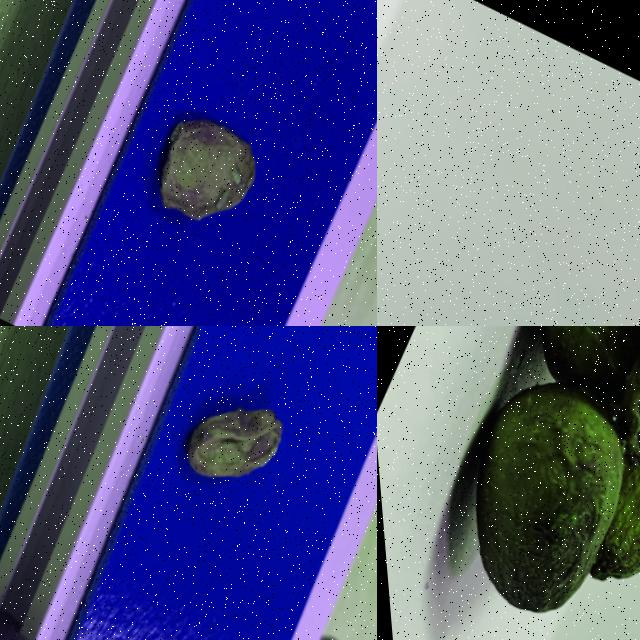Agglomerated_cocoabeans: (377, 326, 639, 639), (377, 0, 500, 325)
Flat_cocoabeans: (42, 8, 342, 325), (81, 326, 366, 592)
